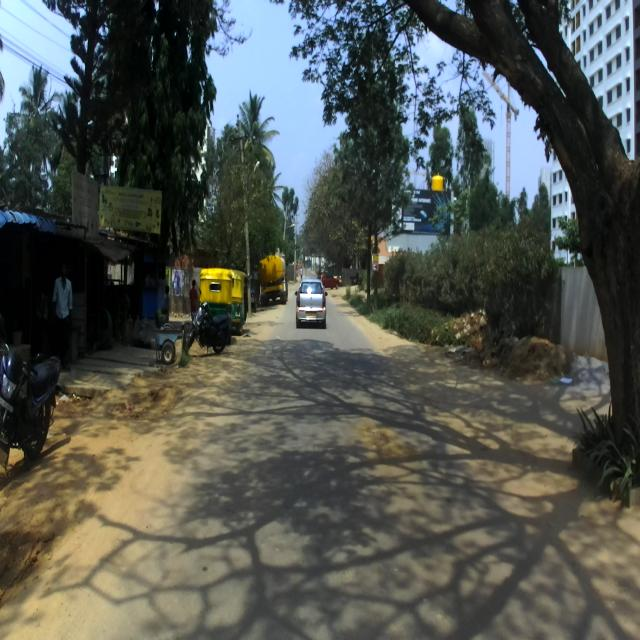car ahead at: (292, 277, 331, 335)
motorcycle ahead at: (0, 332, 62, 469), (185, 291, 234, 365)
